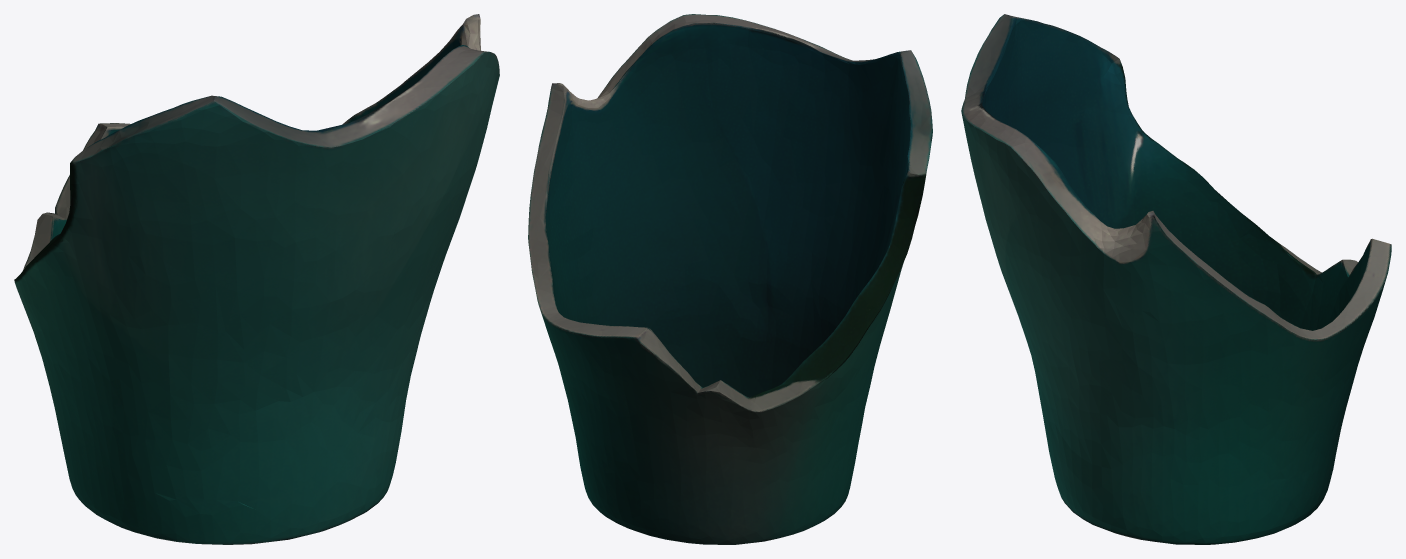
Rendered from shard2.glb.
The picture shows the model from 3 angles, left to right: view 1: azimuth 30°, elevation 25°; view 2: azimuth 150°, elevation 25°; view 3: azimuth 270°, elevation 25°; orthographic projection. The views are drawn at different scales.
Parts seen in each view (by area): view 1: world; view 2: world; view 3: world.
Part boxes in pixels (x1,y1,x2,y2): world: (14, 14, 499, 544); world: (528, 14, 932, 544); world: (961, 14, 1391, 544).
Bounding box in the file's own units: 0.6506 × 0.7076 × 0.6522.
1 material, 1 textured.
